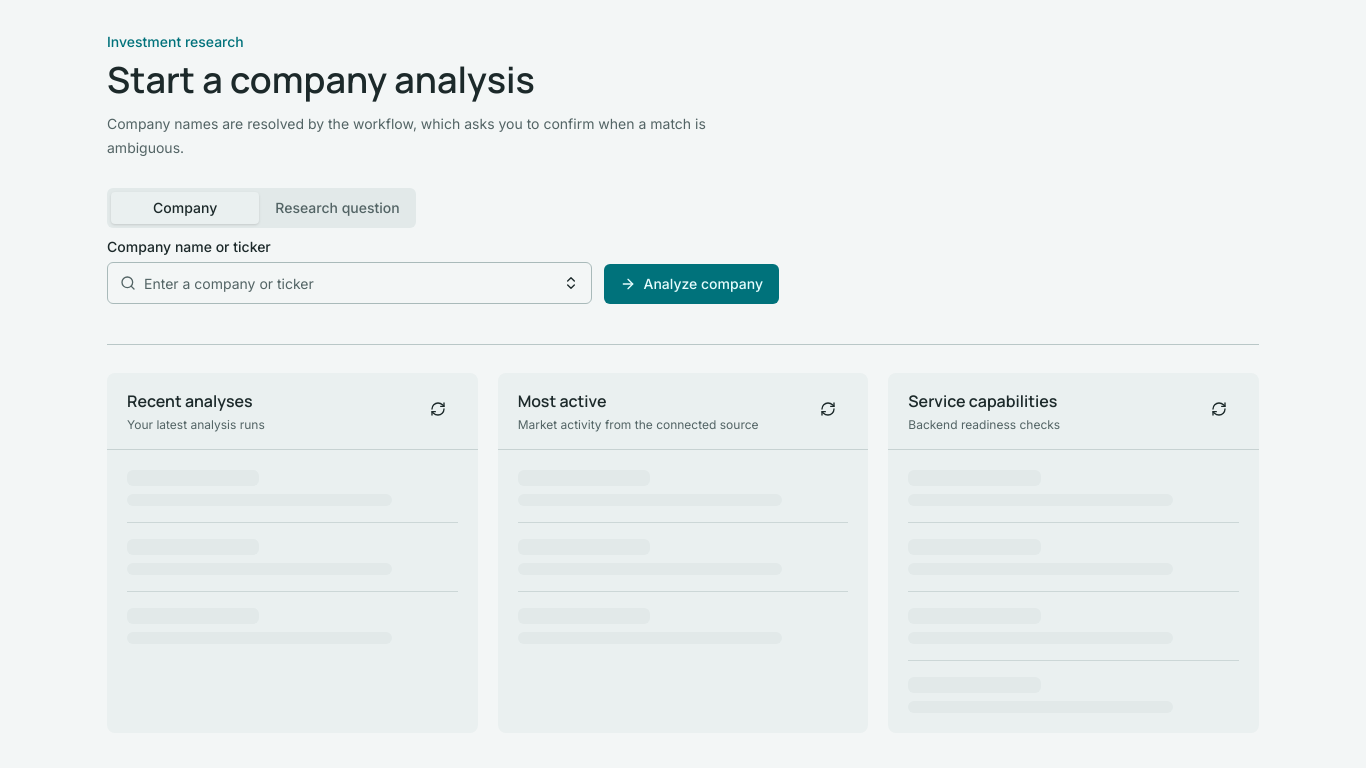
Test case: home dashboard › shows a loading state while company suggestions are being requested
Click the button named "Browse company suggestions": (570, 283) [554,267,586,299]
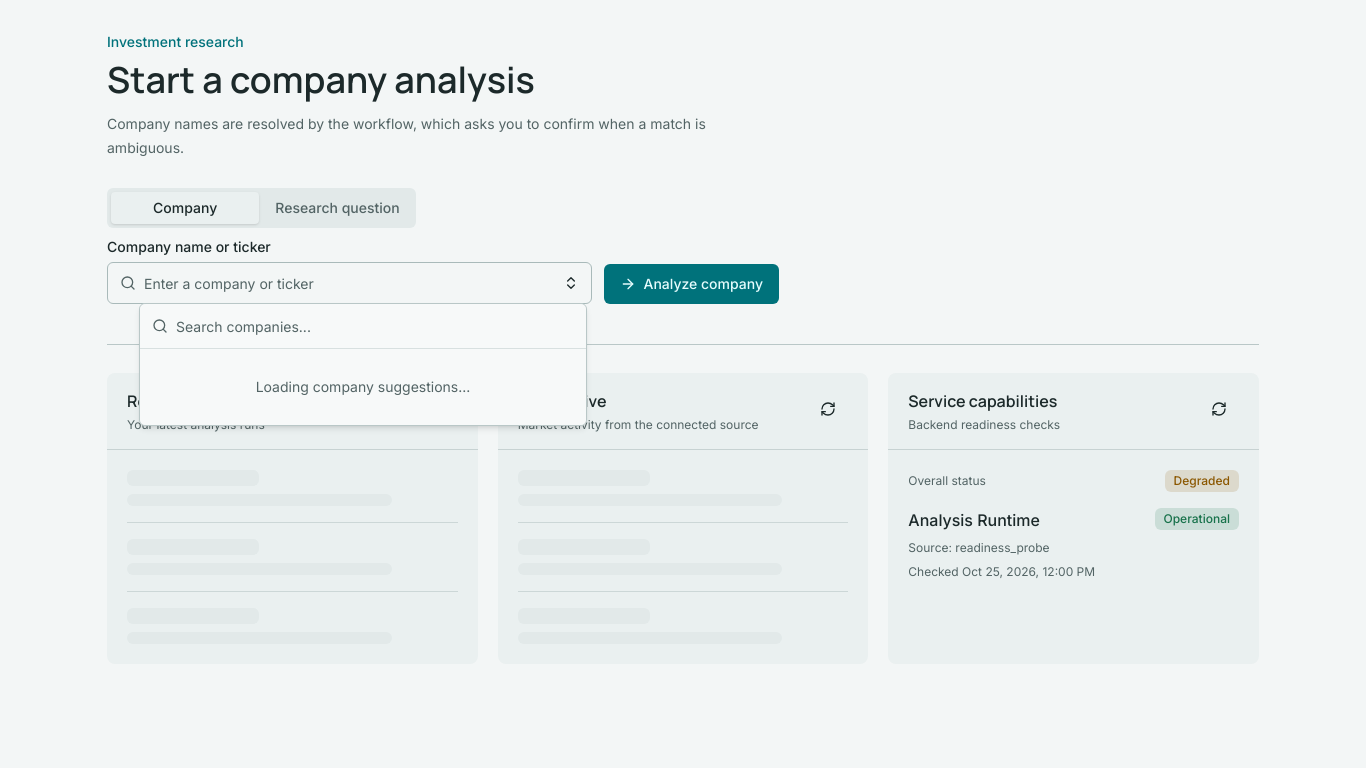
Now the text "Loading company suggestions..." is shown, box [256,378,470,395]
